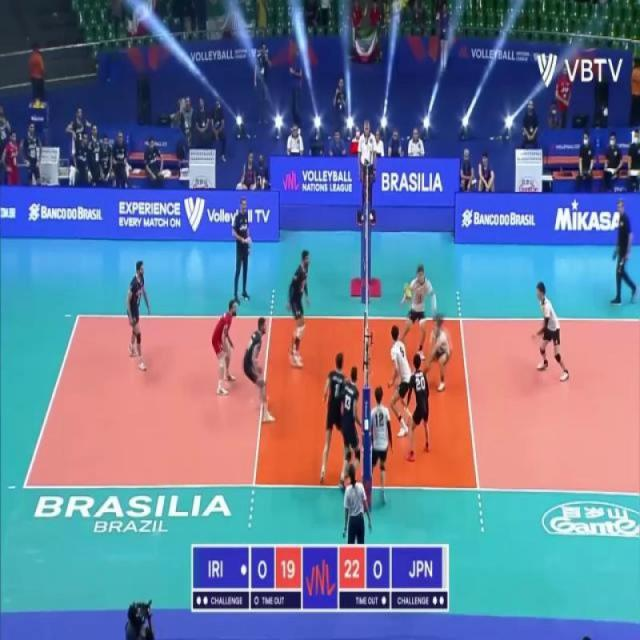volleyball: (403, 286, 412, 304)
